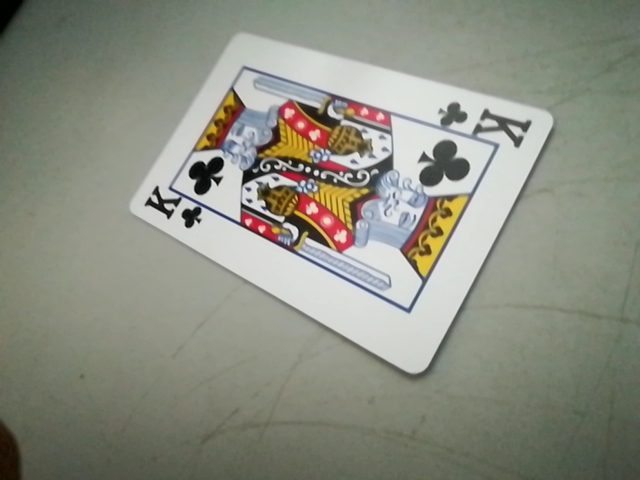mh k: (431, 98, 538, 140), (136, 191, 211, 234)
